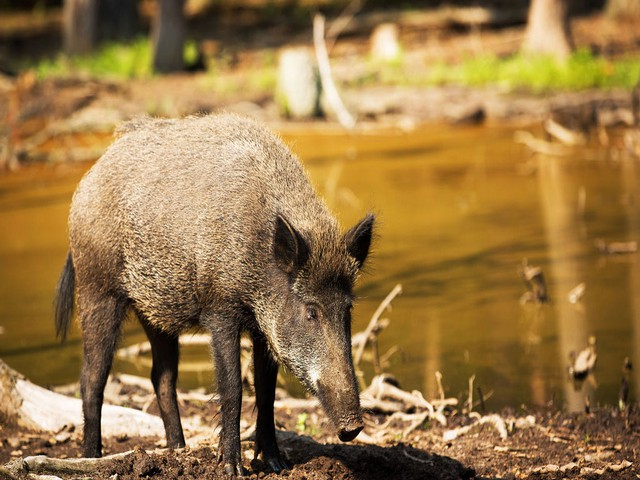Pig: (53, 107, 382, 467)
